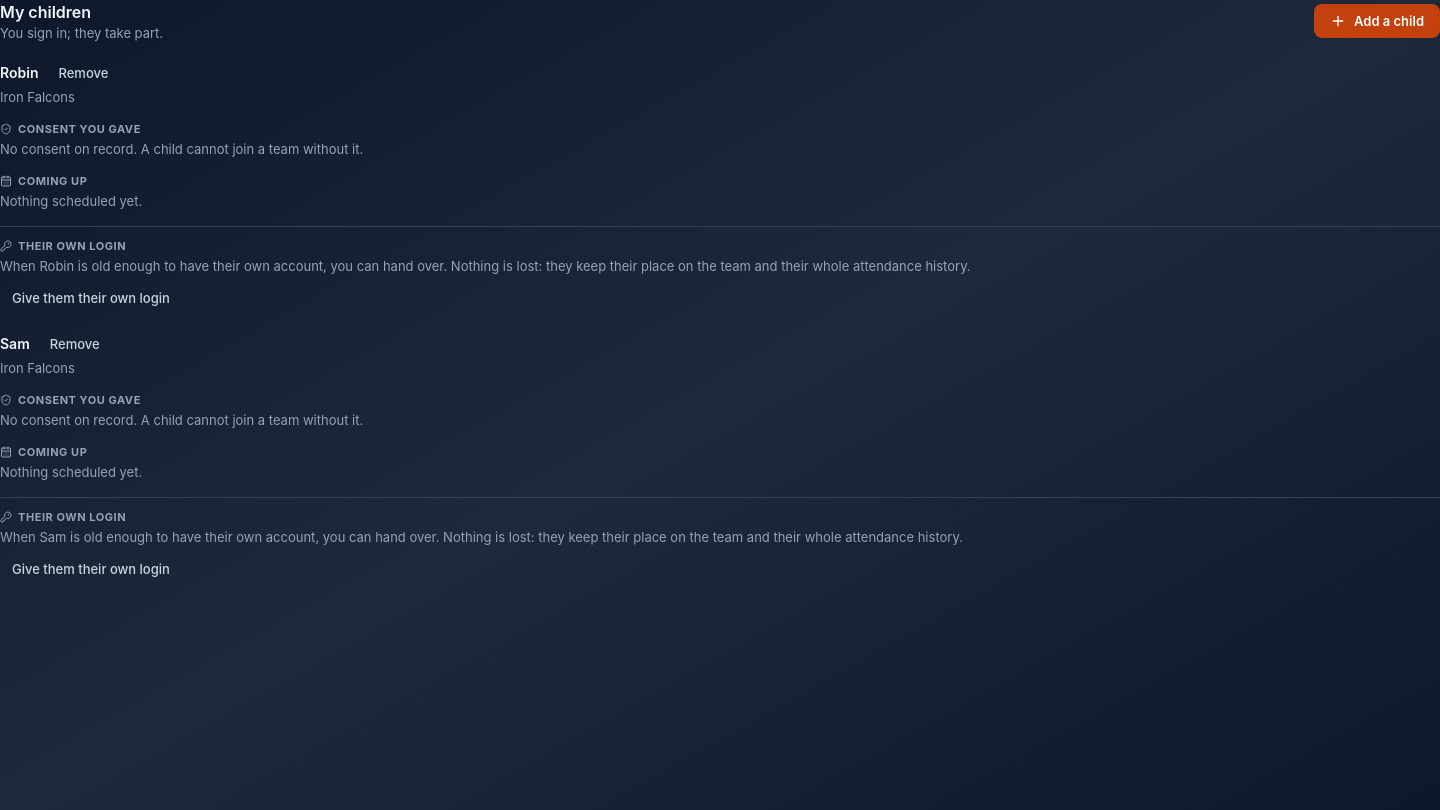
Test: SEC-11 — removing one child › asks first, names the child, and says what survives
The width and height of the screenshot is (1440, 810).
Click the button with test id "remove-child-child-a". click: (83, 73)
box: left=46, top=58, right=120, bottom=88
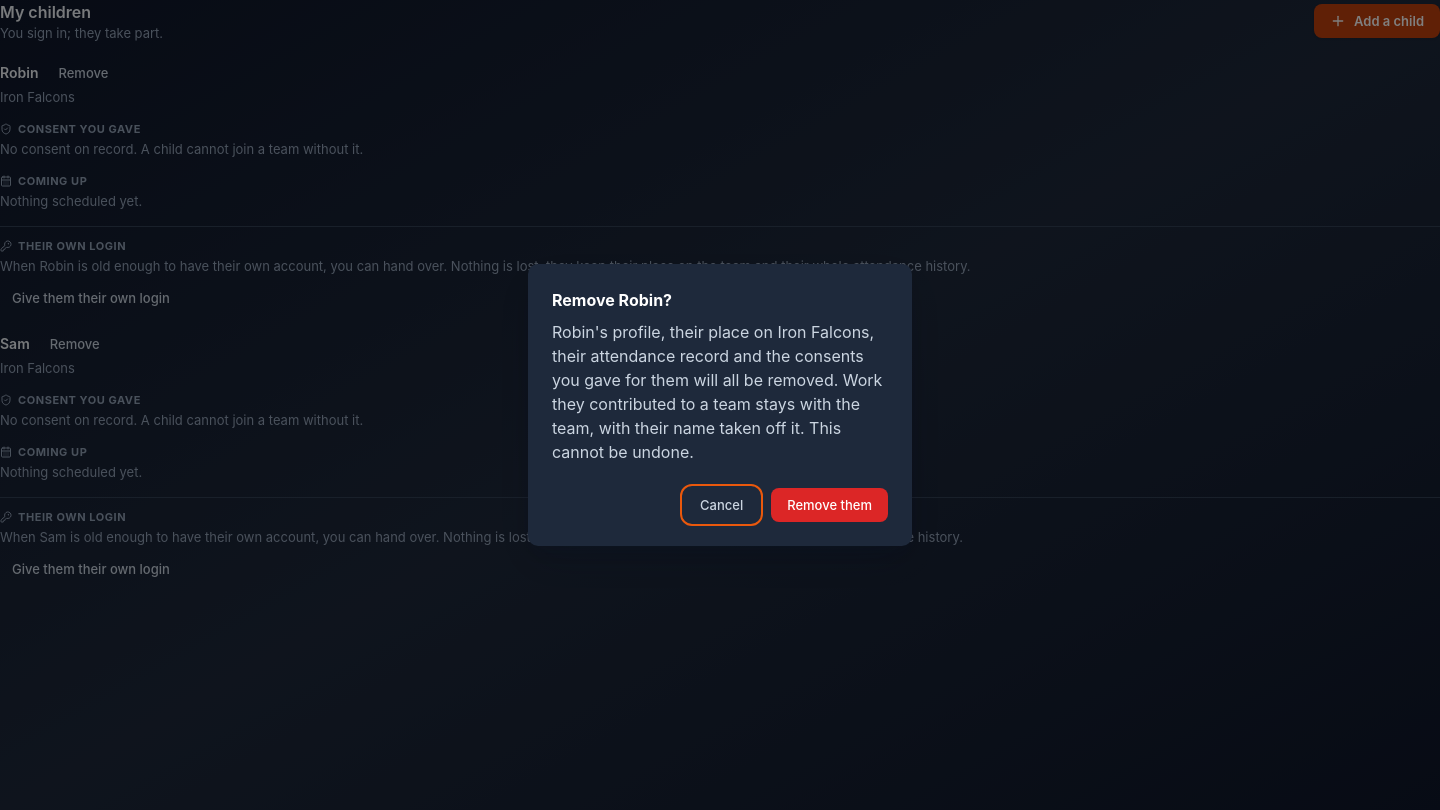
Check: the heading "Remove Robin?" is shown, box left=552, top=290, right=672, bottom=310
Check: the text "cannot be undone" is shown, box left=552, top=322, right=882, bottom=462
